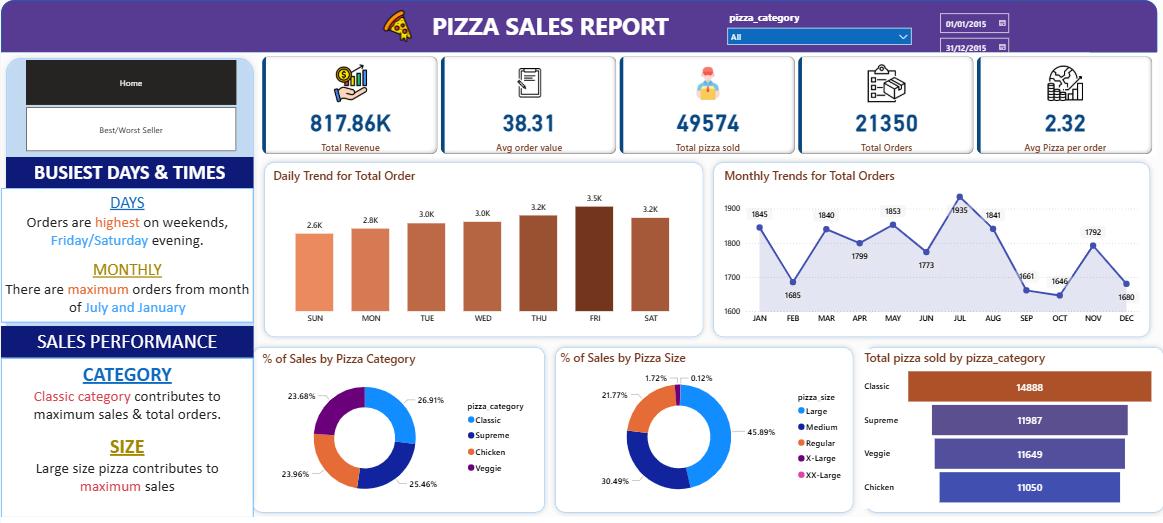

The dashboard page shown, as its layout file describes it:
{"tool":"powerbi","page":{"name":"Page 1","canvas":[1280,720],"ordinal":0},"visuals":[{"type":"textbox","box":[0,0,574.1,73.7],"z":0},{"type":"card","title":"Total Revenue","fields":{"Values":["Sum(unified_mentor pizza_sales.total_price)"]},"box":[0,73.7,246,100.1],"z":1000},{"type":"card","title":"Average Order Value","fields":{"Values":["unified_mentor pizza_sales.Average order value"]},"box":[246,73.7,268.3,100.1],"z":2000},{"type":"card","title":"Total Pizza Sold","fields":{"Values":["Sum(unified_mentor pizza_sales.quantity)"]},"box":[514.3,73.7,247.4,100.1],"z":3000},{"type":"card","title":"Total Orders","fields":{"Values":["Count(unified_mentor pizza_sales.order_id)"]},"box":[761.7,73.7,262.7,100.1],"z":4000},{"type":"card","title":"Avg Pizza Per Order","fields":{"Values":["unified_mentor pizza_sales.Avg_pizza_per_order"]},"box":[1024.4,73.7,255.8,100.1],"z":5000},{"type":"columnChart","fields":{"Category":["daily_trends.dayname"],"Y":["Sum(daily_trends.Total_orders)"]},"box":[0,421.2,421.2,298.8],"z":6000},{"type":"barChart","fields":{"Category":["monthly_trend.Monthname"],"Y":["Sum(monthly_trend.Total_Orders)"]},"box":[421.2,421.2,451.7,298.8],"z":7000},{"type":"columnChart","fields":{"Y":["Sum(pizza_category_sales.Total_quantity_sold)"],"Category":["pizza_category_sales.pizza_category"]},"box":[872.9,421.2,407.3,298.8],"z":8000},{"type":"slicer","fields":{"Values":["pizza_sales.pizza_category"]},"box":[574.1,0,319.7,73.7],"z":9000},{"type":"slicer","fields":{"Values":["pizza_sales.order_date"]},"box":[893.7,0,386.4,73.7],"z":10000},{"type":"lineChart","title":"Monthly Trend For Total Orders","fields":{"Y":["Count(pizza_sales.order_id)"],"Category":["pizza_sales.order_date.Variation.Date Hierarchy.Year","pizza_sales.order_date.Variation.Date Hierarchy.Quarter","pizza_sales.order_date.Variation.Date Hierarchy.Month","pizza_sales.order_date.Variation.Date Hierarchy.Day"]},"box":[0,173.7,590.7,247.4],"z":11000},{"type":"columnChart","title":"Hourly Trend For Pizza Sold","fields":{"Category":["pizza_sales.order_time"],"Y":["Count(pizza_sales.order_id)"]},"box":[590.7,173.7,689.4,247.4],"z":12000},{"type":"image","box":[474,0,100.1,73.7],"z":13000}]}

Visuals, with their boxes on the page's 1280x720 design canvas (x1, y1, x2, y2). These are canvas units, not pixel positions in the 1163x523 screenshot, which may show the page scaled, cropped or inside an application window:
textbox: pyautogui.locateOnScreen(0, 0, 574, 74)
"Total Revenue" card: pyautogui.locateOnScreen(0, 74, 246, 174)
"Average Order Value" card: pyautogui.locateOnScreen(246, 74, 514, 174)
"Total Pizza Sold" card: pyautogui.locateOnScreen(514, 74, 762, 174)
"Total Orders" card: pyautogui.locateOnScreen(762, 74, 1024, 174)
"Avg Pizza Per Order" card: pyautogui.locateOnScreen(1024, 74, 1280, 174)
columnChart - daily_trends.dayname x Sum(daily_trends.Total_orders): pyautogui.locateOnScreen(0, 421, 421, 720)
barChart - monthly_trend.Monthname x Sum(monthly_trend.Total_Orders): pyautogui.locateOnScreen(421, 421, 873, 720)
columnChart - Sum(pizza_category_sales.Total_quantity_sold) x pizza_category_sales.pizza_category: pyautogui.locateOnScreen(873, 421, 1280, 720)
slicer - pizza_sales.pizza_category: pyautogui.locateOnScreen(574, 0, 894, 74)
slicer - pizza_sales.order_date: pyautogui.locateOnScreen(894, 0, 1280, 74)
"Monthly Trend For Total Orders" lineChart: pyautogui.locateOnScreen(0, 174, 591, 421)
"Hourly Trend For Pizza Sold" columnChart: pyautogui.locateOnScreen(591, 174, 1280, 421)
image: pyautogui.locateOnScreen(474, 0, 574, 74)
